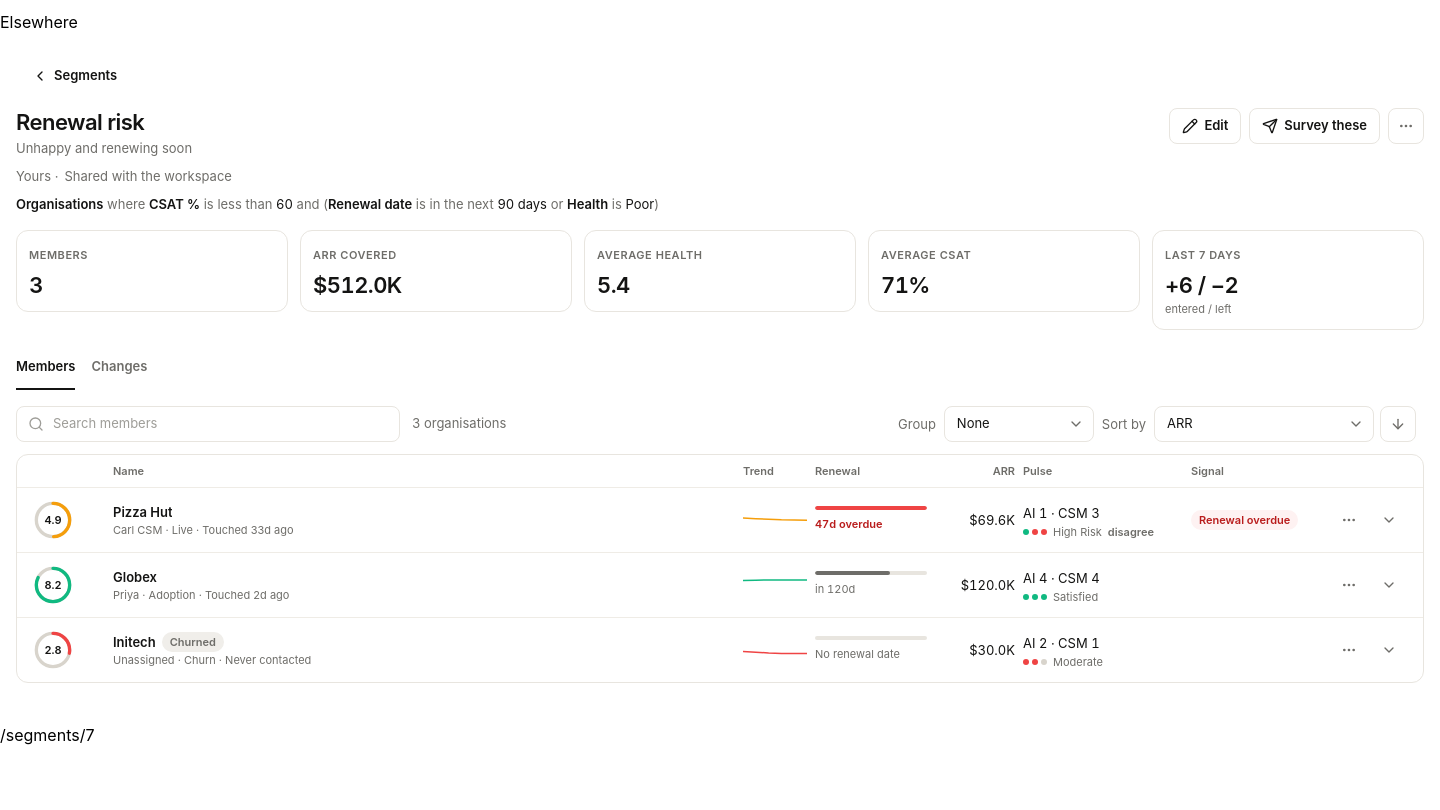
Scenario: /segments/:id (spec §3) › returns focus to ⋯ when the Delete dialog is cancelled
Step 1. Click the button named "More actions" → click(1406, 126), box [1388, 108, 1424, 144]
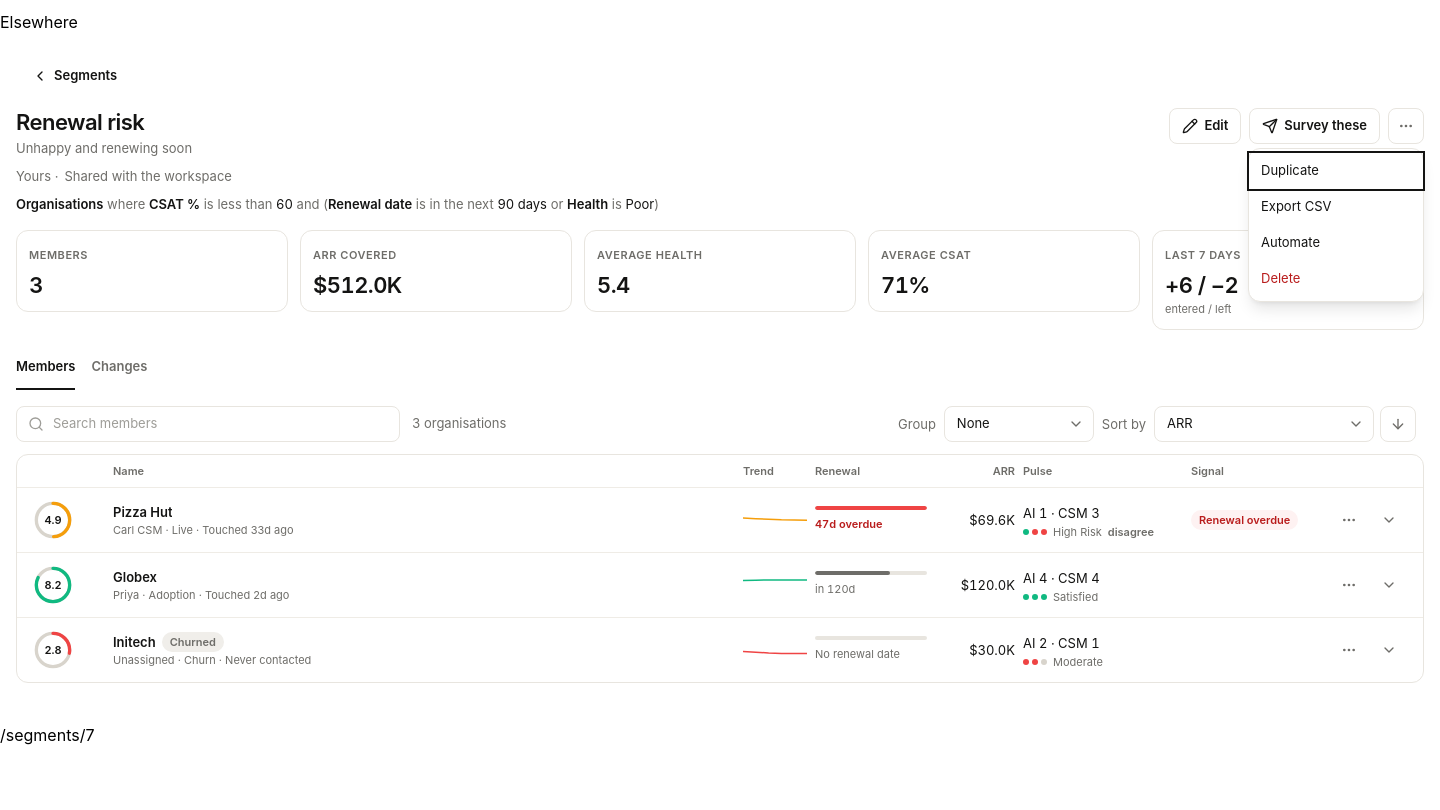
Step 2. Click the menu item "Delete" → click(1336, 279), box [1249, 261, 1423, 297]
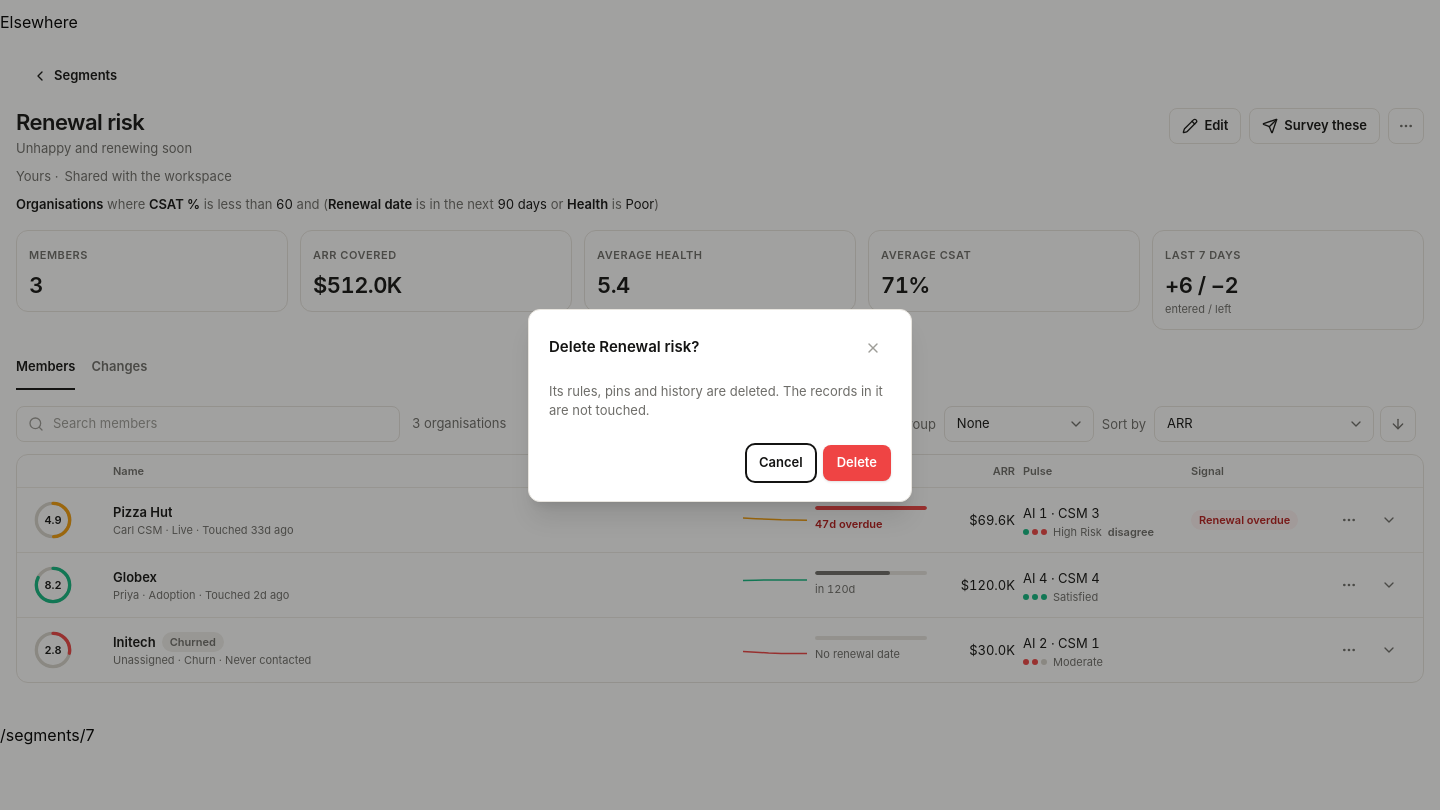
Step 3. Click the button "Cancel" → click(781, 462), box [747, 444, 815, 480]
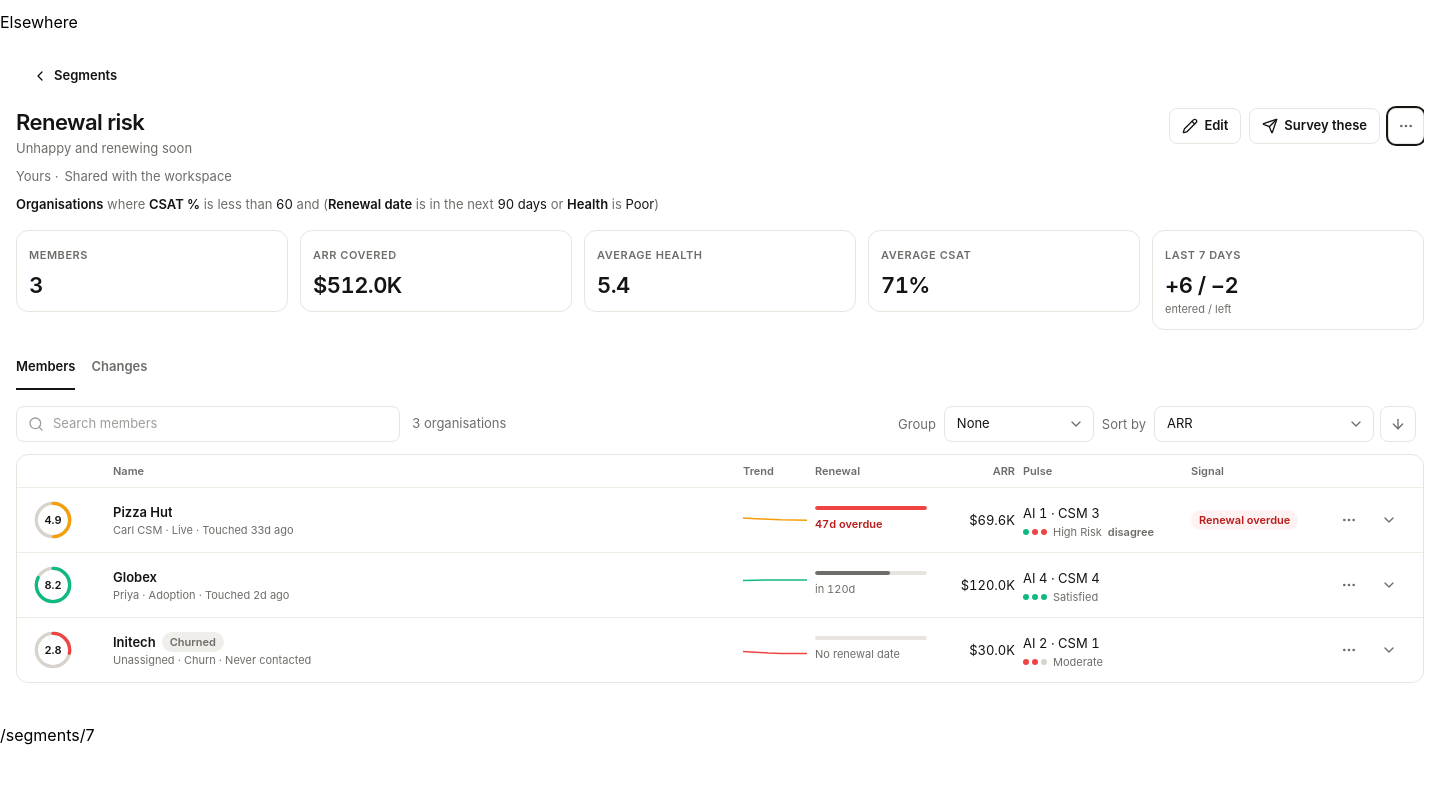
Now the heading "Delete Renewal risk?" is gone
